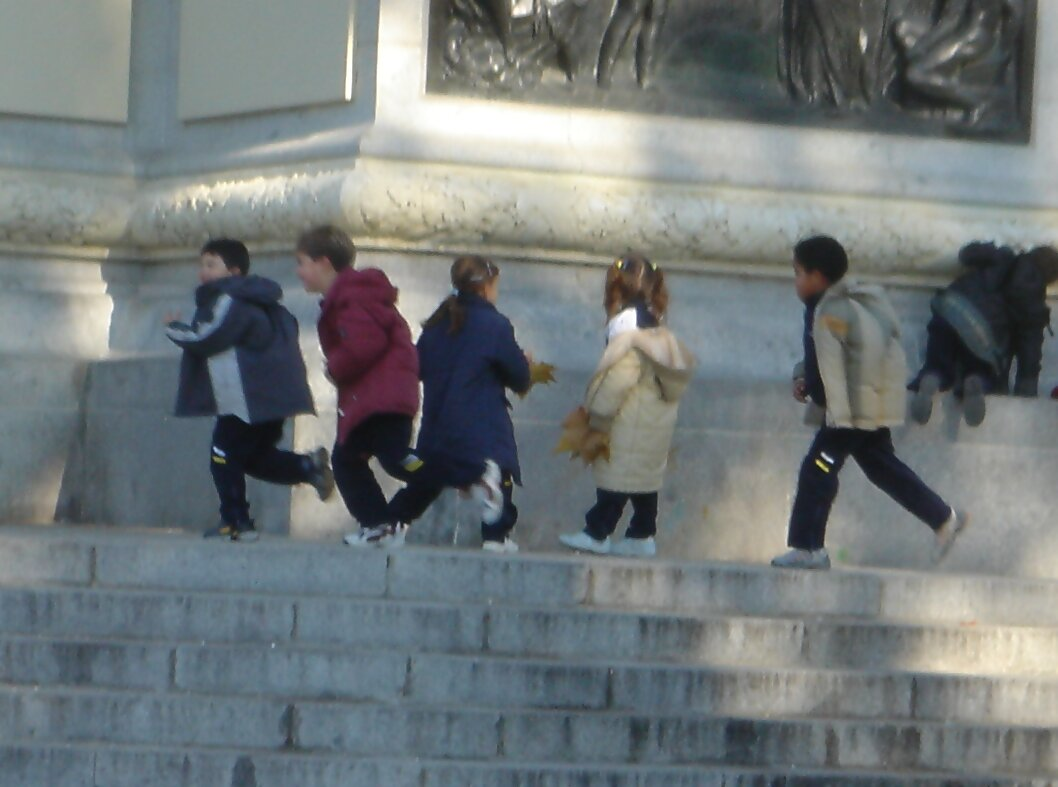person: (760, 222, 973, 579), (162, 233, 336, 535), (288, 227, 432, 554), (558, 247, 695, 562), (411, 247, 547, 558)
